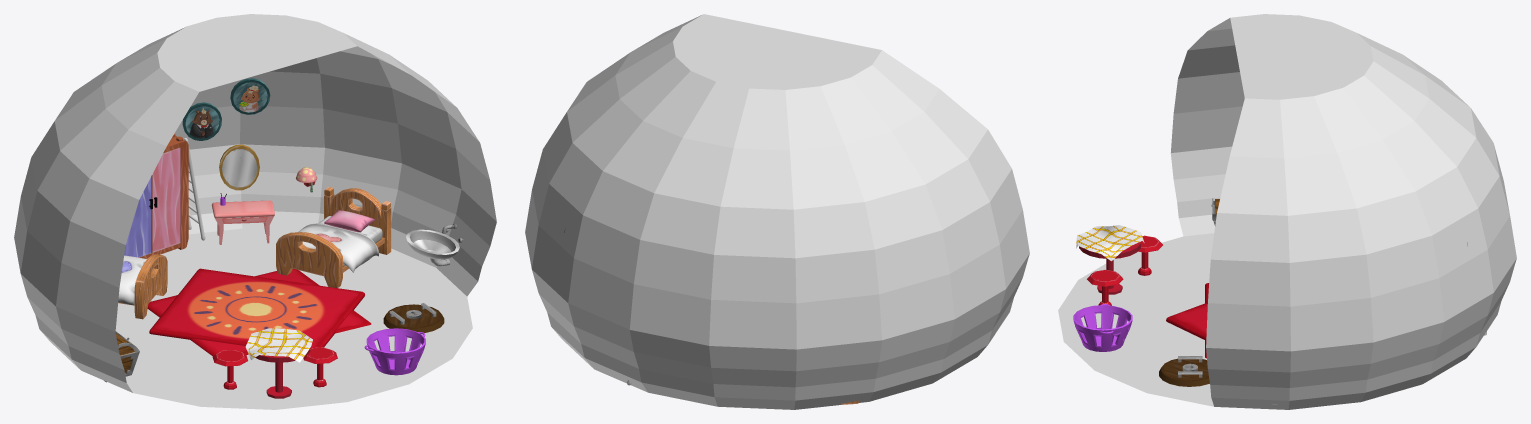
Rendered from level 1 resize.FBX.
The picture shows the model from 3 angles, left to right: view 1: azimuth 30°, elevation 25°; view 2: azimuth 150°, elevation 25°; view 3: azimuth 270°, elevation 25°; orthographic projection. The views are drawn at different scales.
Parts seen in each view (by area): view 1: dome001, karpet 2, Box011, kotak depan, keranjang baju, ranjang, gambar (×2), selimut, karpet, taplak, dressing table, kotak depan001 (+12 smaller); view 2: dome001; view 3: dome001, keranjang baju, taplak, tutup besi, karpet 2, Cylinder002, meja kecil, Cylinder017.
Part boxes in pixels (box(x1,y1,x2,y2)): dome001: box(14, 14, 496, 409); karpet 2: box(149, 268, 364, 348); Box011: box(151, 147, 180, 252); kotak depan: box(276, 232, 342, 288); keranjang baju: box(366, 328, 425, 375); ranjang: box(324, 187, 391, 254); gambar (×2): box(185, 82, 267, 138); selimut: box(298, 223, 378, 272); karpet: box(147, 269, 371, 356); taplak: box(245, 328, 312, 362); dressing table: box(211, 200, 274, 244); kotak depan001: box(134, 254, 167, 319); dome001: box(525, 14, 1029, 409); dome001: box(1058, 14, 1516, 409); keranjang baju: box(1073, 305, 1132, 351); taplak: box(1076, 225, 1144, 261); tutup besi: box(1159, 358, 1209, 386); karpet 2: box(1166, 302, 1207, 339); Cylinder002: box(1087, 269, 1123, 305); meja kecil: box(1079, 241, 1140, 294); Cylinder017: box(1138, 235, 1162, 275).
Bounding box in the file's own units: 1390 × 834 × 1301.
